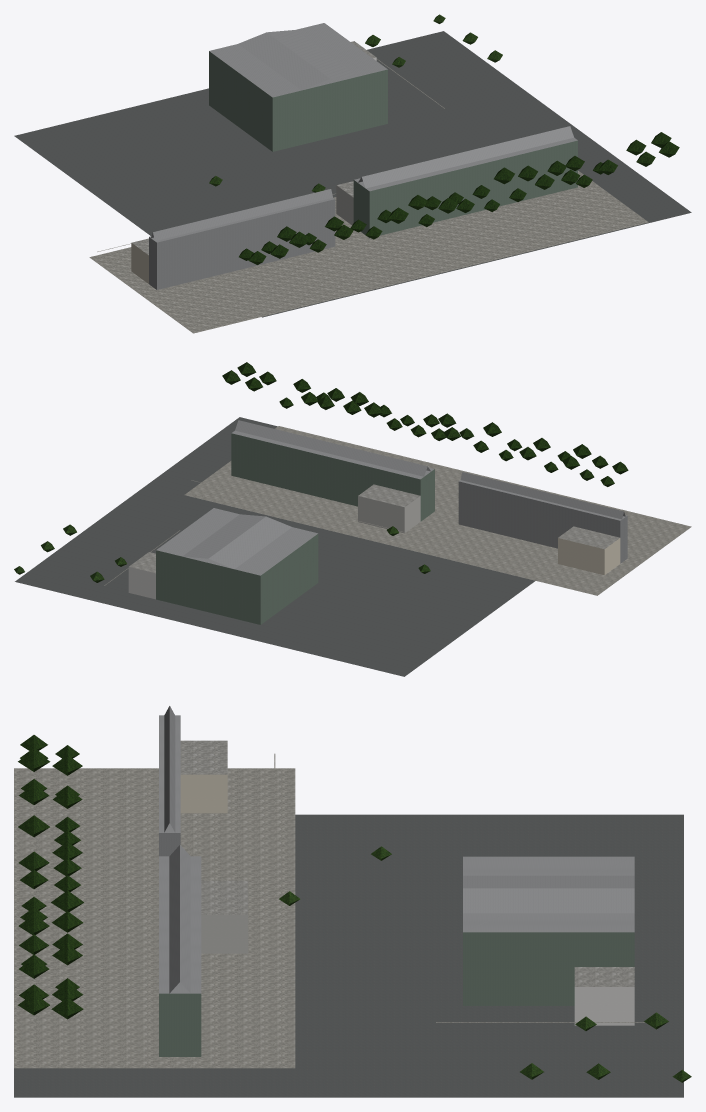
Rendered from cidade_S06_00_lod.gltf.
3 renders of one model, top to bottom at view 1: azimuth 30°, elevation 25°; view 2: azimuth 150°, elevation 25°; view 3: azimuth 270°, elevation 25°, orthographic. The views are drawn at different scales.
Parts seen in each view (by area): view 1: S06_00_Chao_LOD2, S06_00_Edificios_LOD1, S06_00_Silhueta_LOD2, S06_00_Vegetacao_LOD2; view 2: S06_00_Chao_LOD2, S06_00_Edificios_LOD1, S06_00_Silhueta_LOD2, S06_00_Vegetacao_LOD2; view 3: S06_00_Chao_LOD2, S06_00_Edificios_LOD1, S06_00_Silhueta_LOD2, S06_00_Vegetacao_LOD2.
Part boxes in pixels (box(x1,y1,x2,y2)): S06_00_Chao_LOD2: box(14, 31, 691, 333); S06_00_Edificios_LOD1: box(97, 30, 577, 289); S06_00_Silhueta_LOD2: box(149, 23, 577, 289); S06_00_Vegetacao_LOD2: box(209, 14, 679, 264); S06_00_Chao_LOD2: box(15, 417, 691, 676); S06_00_Edificios_LOD1: box(104, 420, 627, 624); S06_00_Silhueta_LOD2: box(156, 430, 627, 624); S06_00_Vegetacao_LOD2: box(14, 362, 628, 582); S06_00_Chao_LOD2: box(14, 768, 683, 1097); S06_00_Edificios_LOD1: box(159, 706, 644, 1056); S06_00_Silhueta_LOD2: box(159, 715, 634, 1056); S06_00_Vegetacao_LOD2: box(18, 735, 691, 1082).
Size of the model in its own units: 117 by 15.95 by 101.
11 materials, 11 textured.
